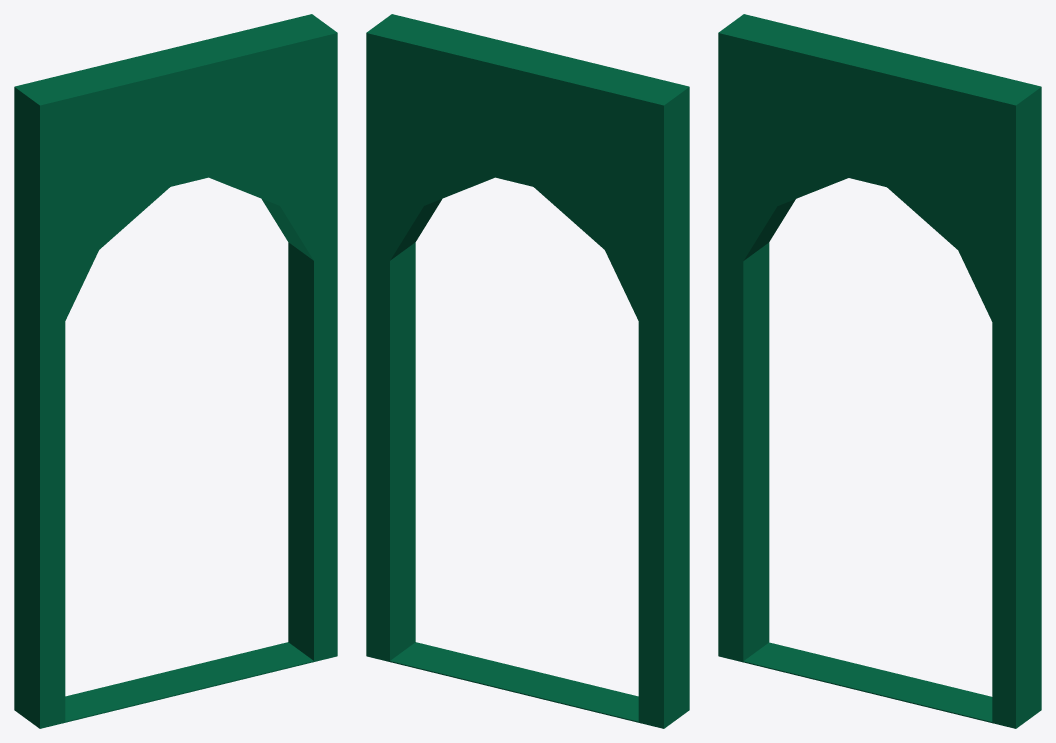
File: GreenDoorframe.glb
The picture shows the model from 3 angles, left to right: view 1: azimuth 30°, elevation 25°; view 2: azimuth 150°, elevation 25°; view 3: azimuth 330°, elevation 25°; orthographic projection.
Parts seen in each view (by area): view 1: wall_green_door; view 2: wall_green_door; view 3: wall_green_door.
Boxes of the visible parts, <box> form: wall_green_door: <box>14,14,337,728</box>; wall_green_door: <box>366,14,689,728</box>; wall_green_door: <box>718,14,1041,728</box>.
Size of what is drawn, in the model's own units: 2 by 4 by 0.3.
Materials: 1 (1 with a texture image).
